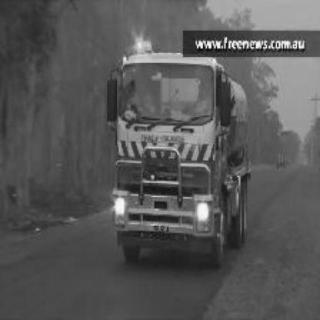other: (119, 137, 207, 173), (190, 192, 234, 248), (107, 190, 133, 224)
